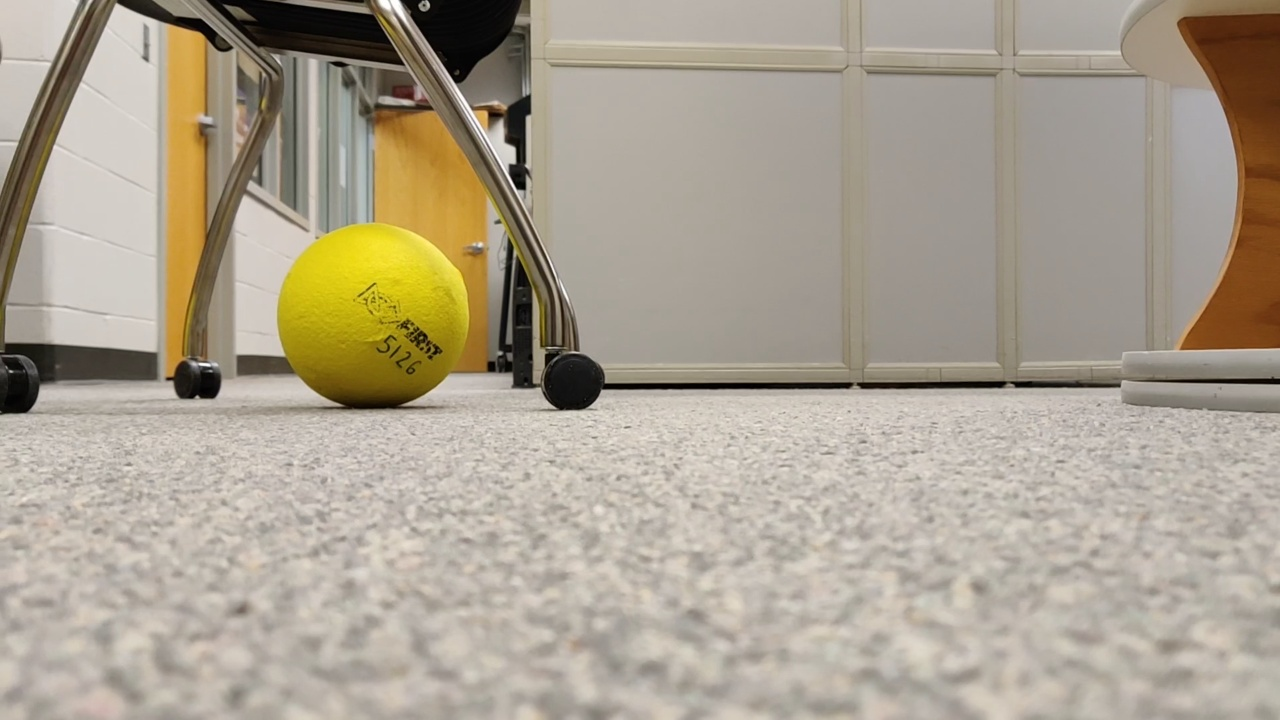Ball: (274, 226, 475, 417)
